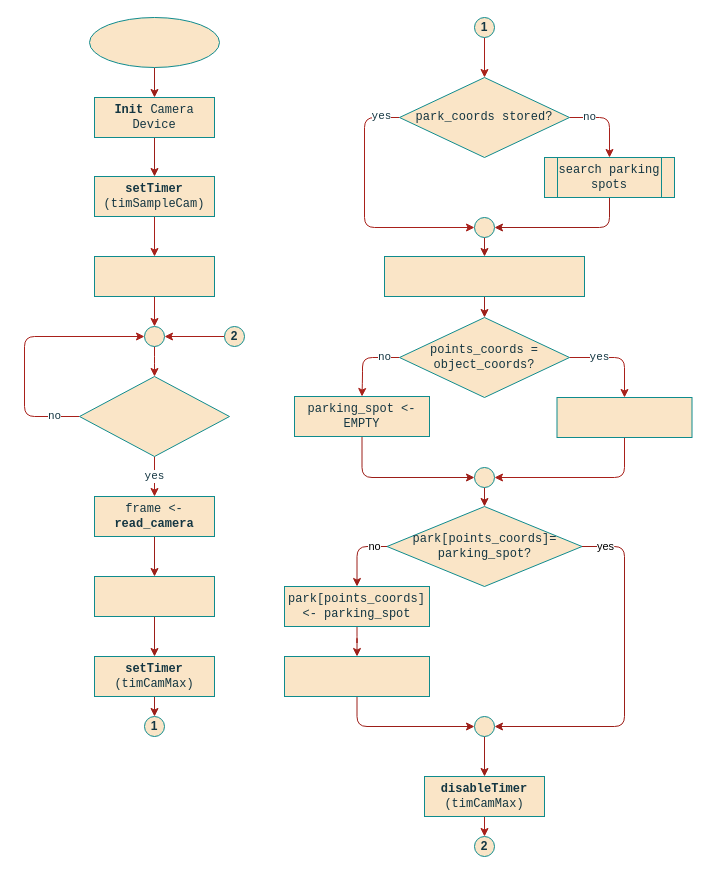
Image size: 710x874. Some labels were removed from this diagram. Each missing label, with the centre of its shape:
condCameraAcquire notified?: pixel 154 416
lock mutCamera: pixel 154 276
object_coords <- detectMultiScale (frame): pixel 484 276
parking_spot <- OCCUPIED: pixel 624 417
sendMessage (park[points_coords]): pixel 357 676
tCamera: pixel 154 42
Unlock mutCamera: pixel 154 596
